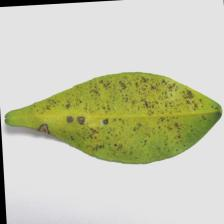canker: (30, 77, 205, 154)
